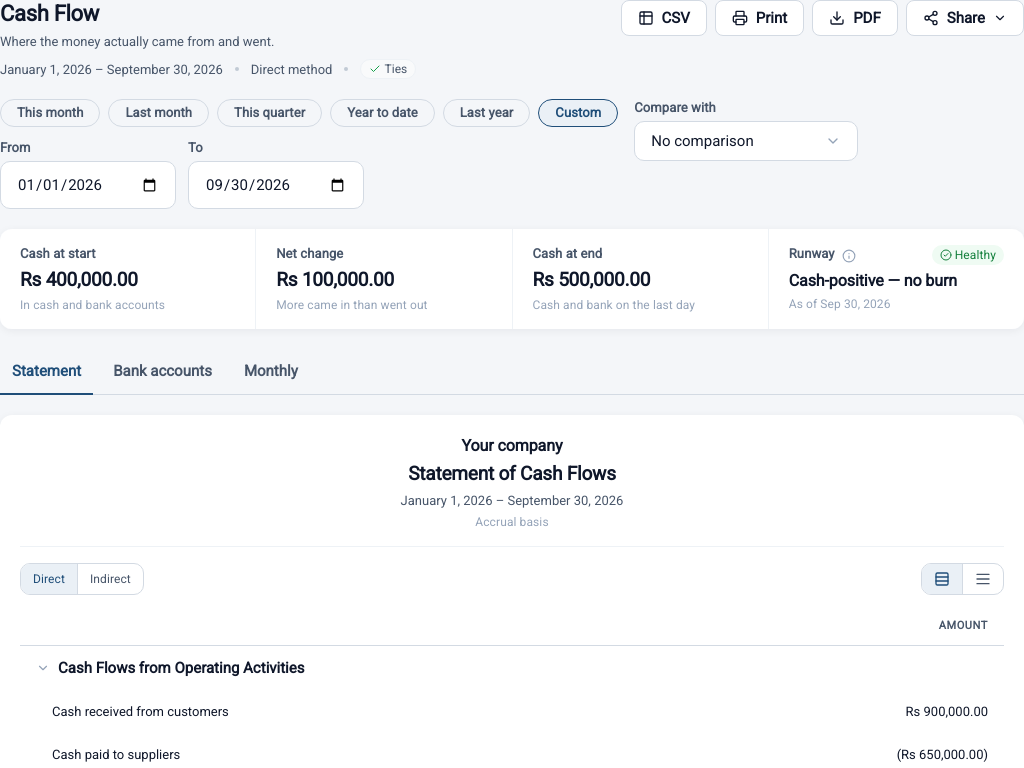
Test case: CashFlowPage (reports v2) › opens a keyed line into the cash rows behind it, with the allocation shown
Click the button "Cash paid to suppliers" at [116, 754], box top-left (52, 745), bottom-right (679, 764)
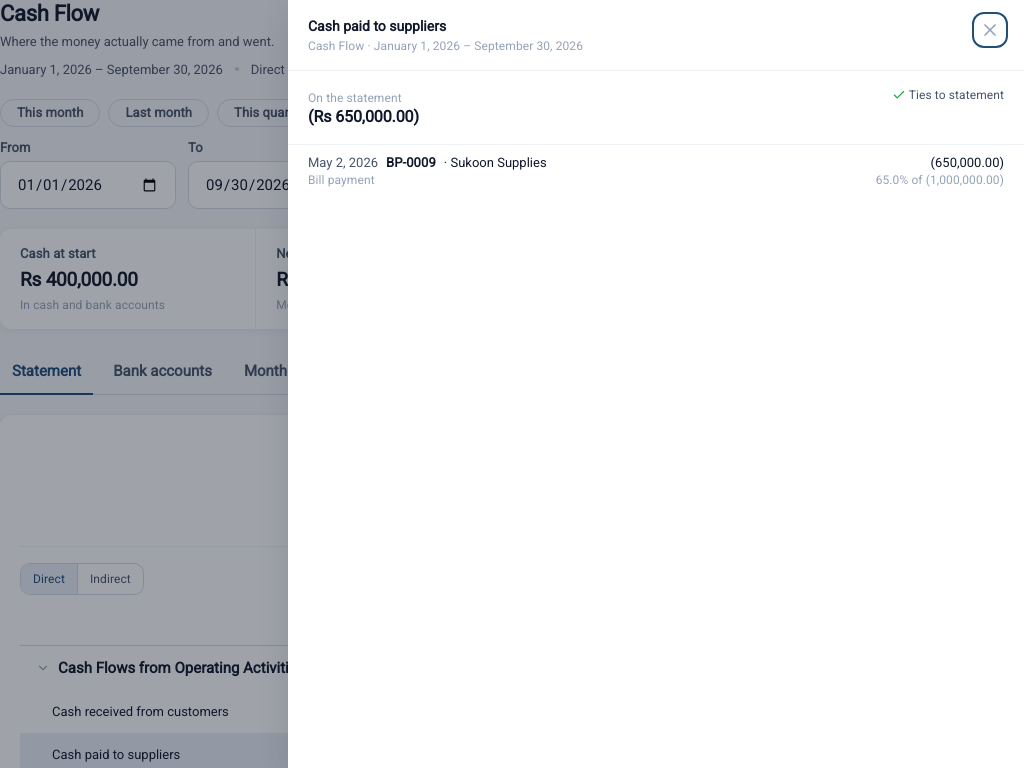
Now the text "BP-0009" is shown, box top-left (386, 154), bottom-right (436, 172)
Now the text "65.0% of (1,000,000.00)" is shown, box top-left (876, 172), bottom-right (1004, 188)
Now the text "Ties to statement" is shown, box top-left (892, 87), bottom-right (1004, 103)
